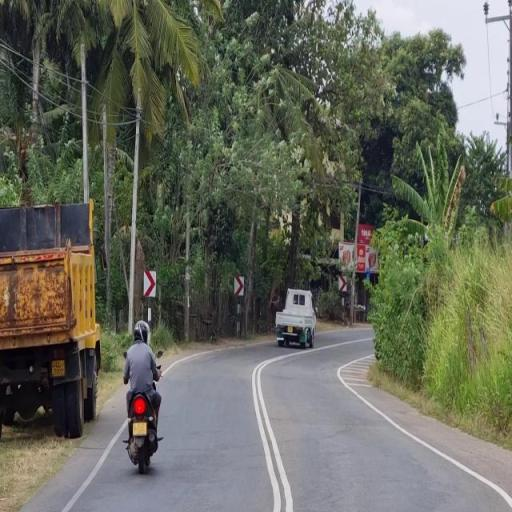double_white_line: (251, 354, 291, 511), (0, 38, 35, 90)
